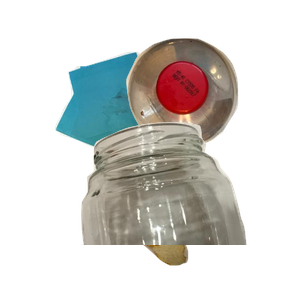glass: (74, 120, 300, 300)
paper: (52, 49, 209, 198)
plastic: (124, 36, 300, 175)
trash: (96, 181, 277, 300)
